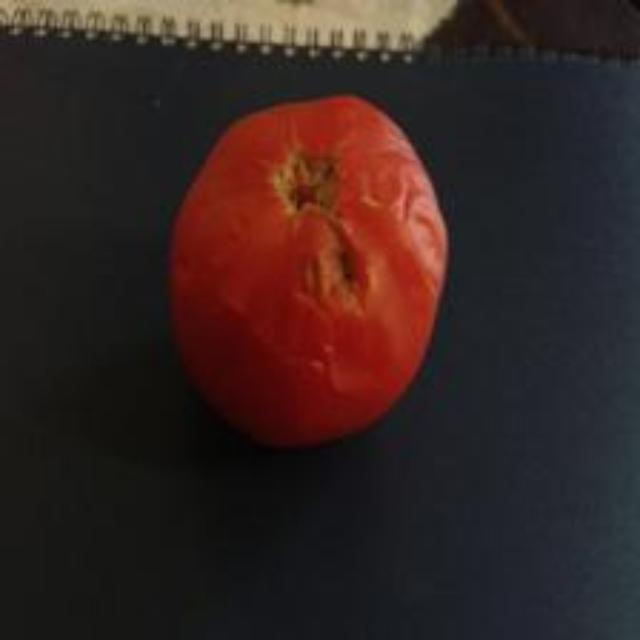defect: (165, 88, 453, 449)
